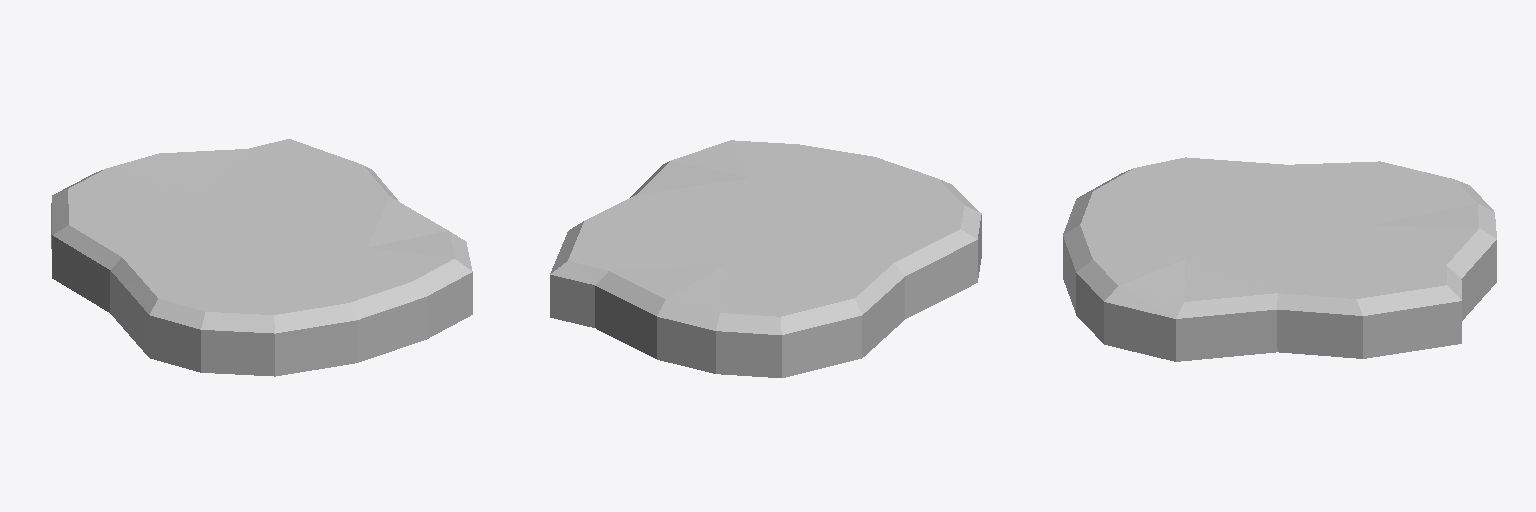
The model's file is Stone.obj.
3 renders of one model, left to right at view 1: azimuth 30°, elevation 25°; view 2: azimuth 150°, elevation 25°; view 3: azimuth 270°, elevation 25°, orthographic.
Visible parts, largest first — view 1: Plane.003; view 2: Plane.003; view 3: Plane.003.
Part boxes in pixels (left/top/right/bottom): Plane.003: left=51, top=139, right=472, bottom=376; Plane.003: left=550, top=140, right=981, bottom=377; Plane.003: left=1063, top=157, right=1496, bottom=361.
Size of the model in its own units: 8.93 by 1.56 by 10.62.